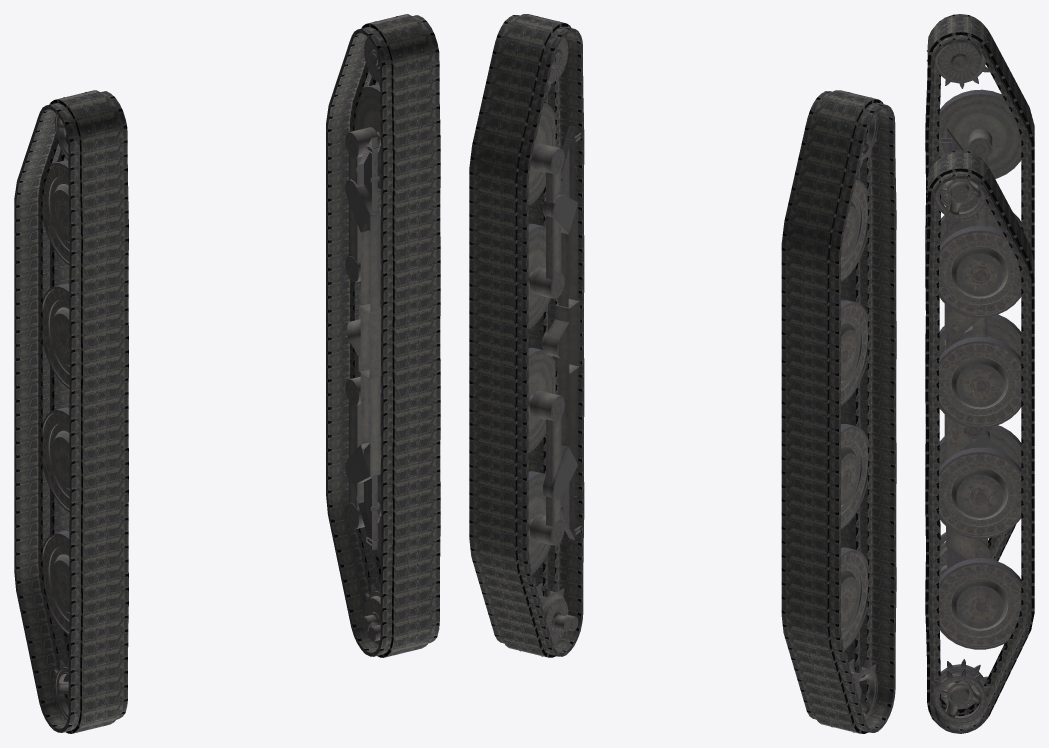
File: Chassis.glb
3 views of the same model, side by side, from view 1: azimuth 30°, elevation 25°; view 2: azimuth 150°, elevation 25°; view 3: azimuth 270°, elevation 25° (orthographic). The views are drawn at different scales.
Parts seen in each view (by area): view 1: set_2_group_0, set_1_group_0, set_0_group_0; view 2: set_2_group_0, set_1_group_0, set_0_group_0; view 3: set_0_group_0, set_1_group_0, set_2_group_0.
Part boxes in pixels (x1,y1,x2,y2): set_2_group_0: [14, 90, 128, 733]; set_1_group_0: [326, 14, 440, 657]; set_0_group_0: [42, 16, 424, 730]; set_2_group_0: [781, 90, 896, 733]; set_1_group_0: [469, 14, 584, 657]; set_0_group_0: [511, 16, 877, 732]; set_0_group_0: [926, 18, 1021, 723]; set_1_group_0: [925, 150, 1034, 733]; set_2_group_0: [925, 14, 1034, 578].
Size of the model in its own units: 3.13 by 5.1 by 0.8951.
Materials: 3 (3 with a texture image).
